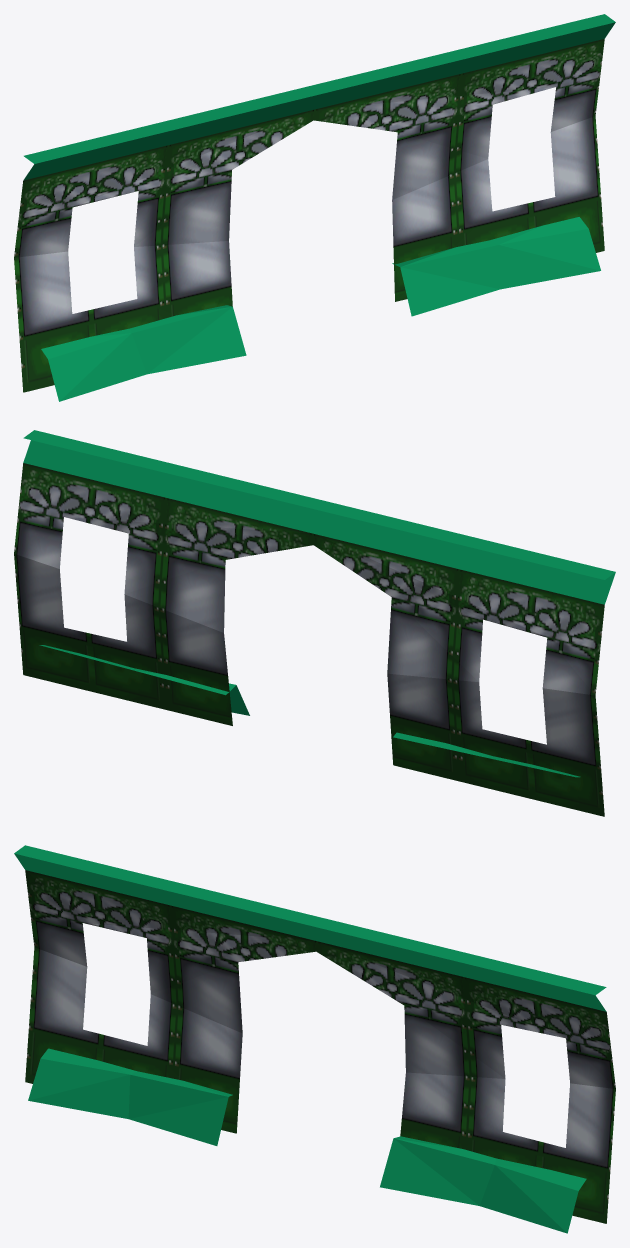
The model's file is W_A3_fOf_Verschoben_259.glb.
The picture shows the model from 3 angles, top to bottom: view 1: azimuth 30°, elevation 25°; view 2: azimuth 150°, elevation 25°; view 3: azimuth 330°, elevation 25°; orthographic projection.
Parts seen in each view (by area): view 1: polySurfaceShape767, polySurfaceShape1054, polySurfaceShape906, polySurfaceShape905; view 2: polySurfaceShape767, polySurfaceShape1054, polySurfaceShape906, polySurfaceShape905; view 3: polySurfaceShape767, polySurfaceShape1054, polySurfaceShape906, polySurfaceShape905.
Boxes of the visible parts, x1,y1,x2,y2 form: polySurfaceShape767: [14, 39, 604, 392]; polySurfaceShape1054: [23, 14, 615, 180]; polySurfaceShape906: [392, 217, 600, 316]; polySurfaceShape905: [41, 305, 246, 401]; polySurfaceShape767: [14, 463, 604, 816]; polySurfaceShape1054: [23, 430, 615, 604]; polySurfaceShape906: [39, 645, 249, 715]; polySurfaceShape905: [393, 732, 580, 777]; polySurfaceShape767: [25, 870, 615, 1223]; polySurfaceShape1054: [14, 845, 606, 1011]; polySurfaceShape906: [380, 1136, 586, 1233]; polySurfaceShape905: [28, 1048, 232, 1145].
Size of the model in its own units: 1 by 0.3926 by 0.0805.
Materials: 4 (1 with a texture image).
